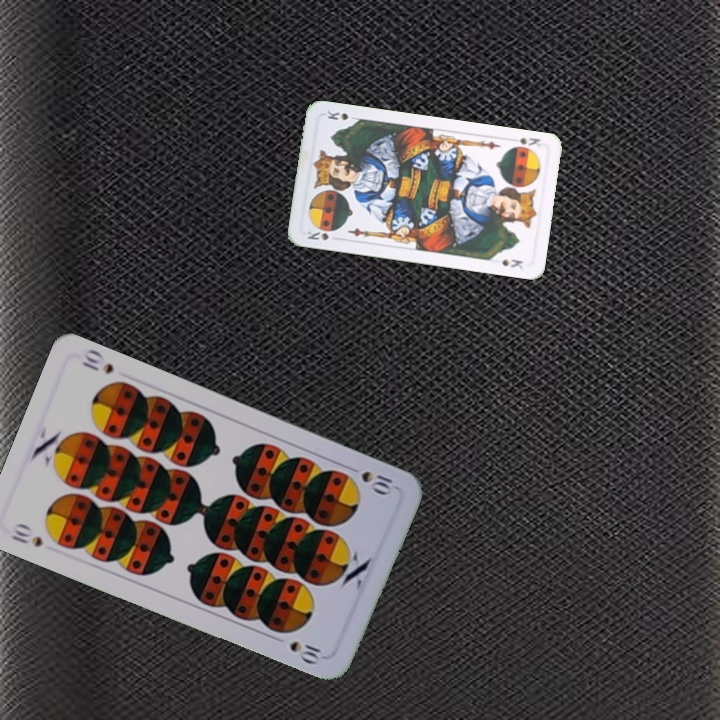S10: (342, 461, 398, 498), (7, 519, 45, 550)
SK: (515, 133, 543, 150), (303, 227, 331, 243)
